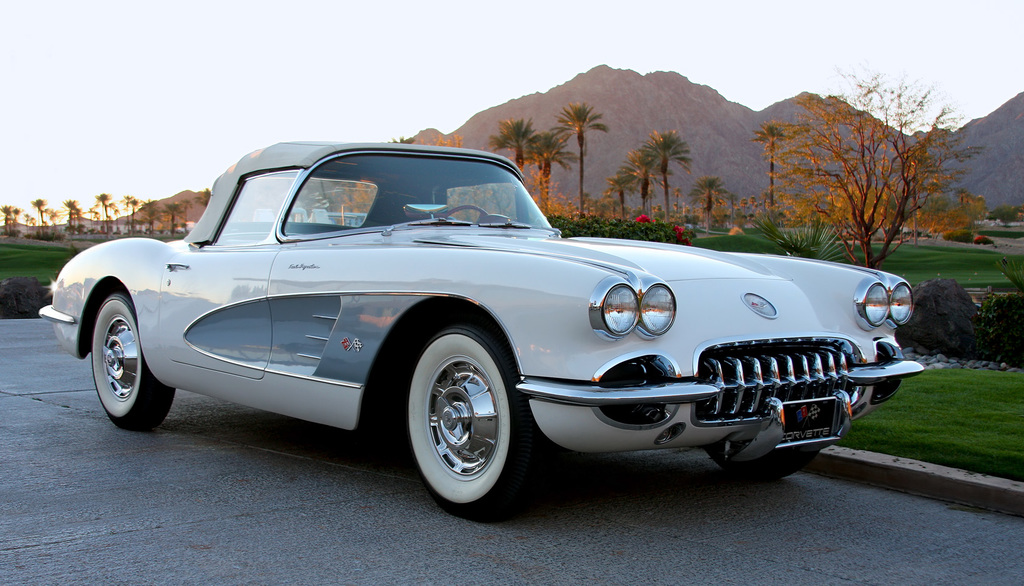Car: (14, 148, 929, 516)
